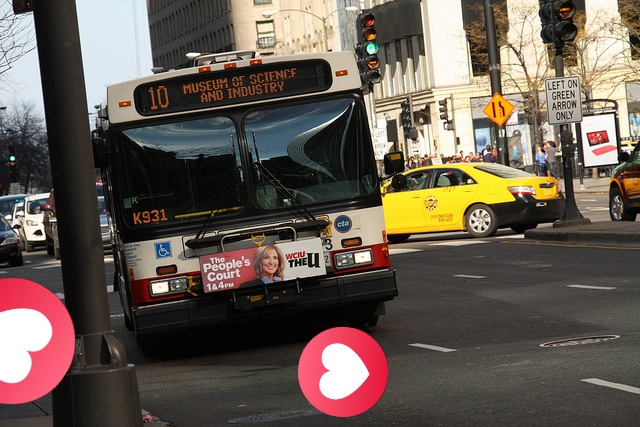love: (0, 278, 75, 404), (298, 327, 388, 417)
